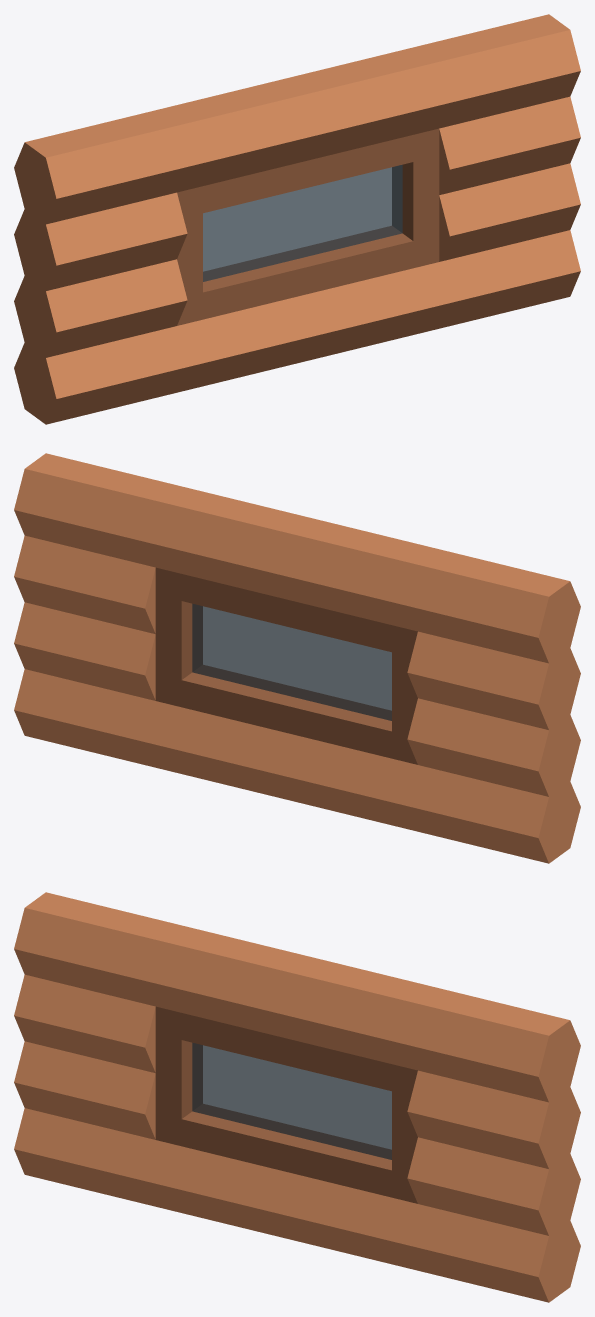
Rendered from cabinWindowHalf.fbx.
3 renders of one model, top to bottom at view 1: azimuth 30°, elevation 25°; view 2: azimuth 150°, elevation 25°; view 3: azimuth 330°, elevation 25°, orthographic.
Visible parts, largest first — view 1: cabinWindowHalf; view 2: cabinWindowHalf; view 3: cabinWindowHalf.
Part boxes in pixels (box(x1,y1,x2,y2)): cabinWindowHalf: box(14, 14, 580, 424); cabinWindowHalf: box(14, 453, 580, 863); cabinWindowHalf: box(14, 892, 580, 1302).
Size of the model in its own units: 10 by 4.86 by 1.4.
